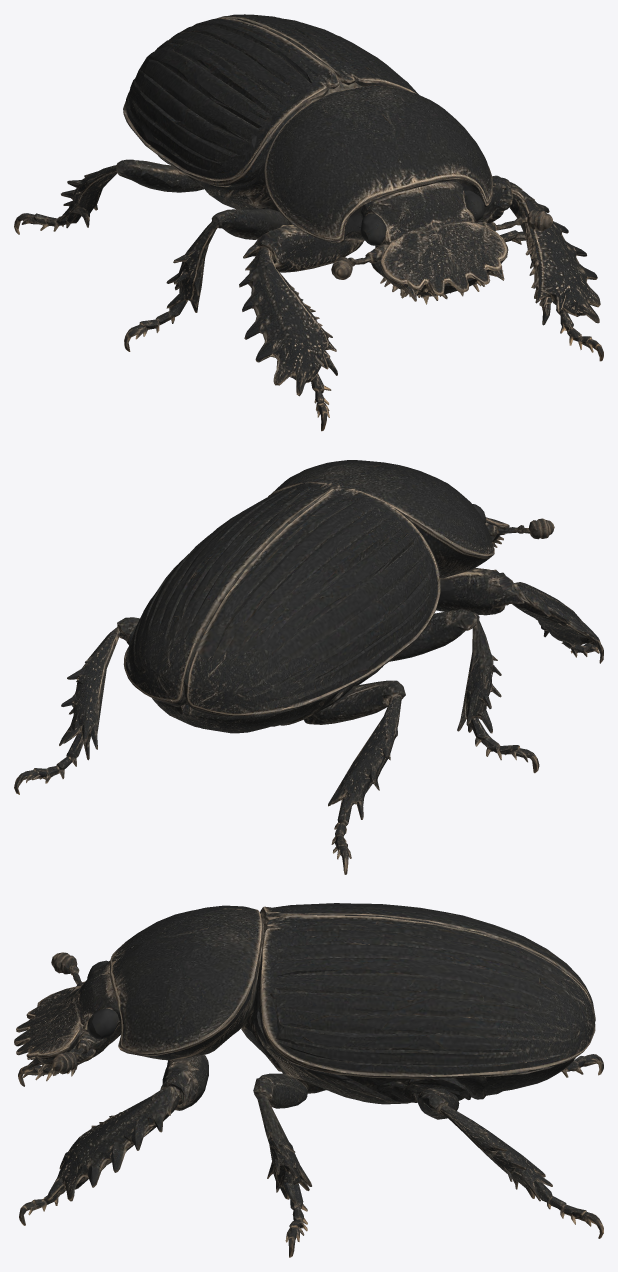
File: lamarcks-dung-beetle.glb
The picture shows the model from 3 angles, top to bottom: view 1: azimuth 30°, elevation 25°; view 2: azimuth 150°, elevation 25°; view 3: azimuth 270°, elevation 25°; orthographic projection. The views are drawn at different scales.
Size of the model in its own units: 1.59 by 0.8638 by 1.9.
Materials: 1 (1 with a texture image).
